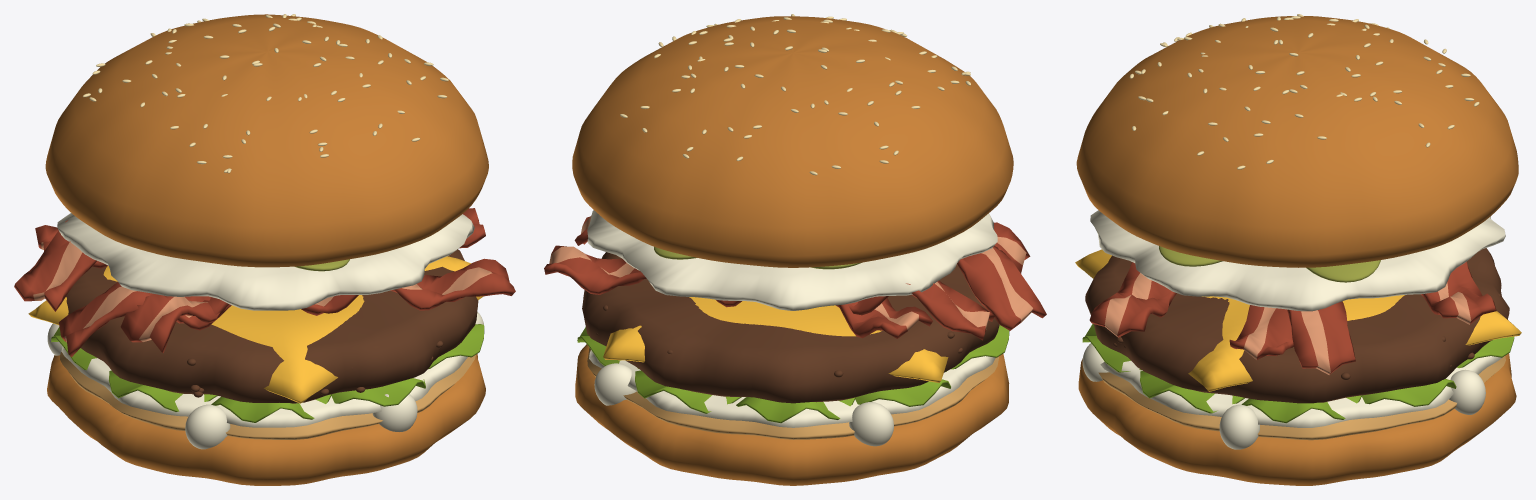
The model's file is encantos-burger.glb.
3 renders of one model, left to right at view 1: azimuth 30°, elevation 25°; view 2: azimuth 150°, elevation 25°; view 3: azimuth 270°, elevation 25°, orthographic.
Parts seen in each view (by area): view 1: Coroa do pão brioche, Carne artesanal, Base do pão, Ovo estrelado, Queijo sobre carne, Tira de bacon crocante, Camada de maionese, Miolo da base, Tira de bacon crocante.003, Tira de bacon crocante.001, Maionese escorrendo, Folha de alface.007 (+5 smaller); view 2: Coroa do pão brioche, Carne artesanal, Base do pão, Ovo estrelado, Tira de bacon crocante.003, Queijo sobre carne, Camada de maionese, Miolo da base, Tira de bacon crocante, Tira de bacon crocante.002, Maionese escorrendo.004, Folha de alface.003 (+5 smaller); view 3: Coroa do pão brioche, Carne artesanal, Base do pão, Ovo estrelado, Queijo sobre carne, Camada de maionese, Miolo da base, Tira de bacon crocante.001, Tira de bacon crocante, Tira de bacon crocante.002, Tira de bacon crocante.003, Maionese escorrendo.002 (+9 smaller).
Part boxes in pixels (x1,y1,x2,y2): Coroa do pão brioche: (45, 14, 488, 267); Carne artesanal: (66, 249, 478, 403); Base do pão: (47, 354, 485, 485); Ovo estrelado: (57, 213, 474, 310); Queijo sobre carne: (28, 256, 483, 403); Tira de bacon crocante: (59, 258, 515, 357); Camada de maionese: (61, 346, 467, 427); Miolo da base: (60, 352, 475, 439); Tira de bacon crocante.003: (14, 220, 96, 311); Tira de bacon crocante.001: (120, 294, 231, 352); Maionese escorrendo: (185, 404, 230, 449); Folha de alface.007: (331, 378, 425, 406); Coroa do pão brioche: (572, 16, 1013, 267); Carne artesanal: (582, 252, 999, 403); Base do pão: (575, 344, 1009, 485); Ovo estrelado: (587, 210, 997, 310); Tira de bacon crocante.003: (544, 245, 994, 340); Queijo sobre carne: (603, 297, 948, 382); Camada de maionese: (589, 350, 995, 427); Miolo da base: (587, 347, 998, 439); Tira de bacon crocante: (956, 246, 1046, 330); Tira de bacon crocante.002: (838, 298, 932, 338); Maionese escorrendo.004: (849, 402, 893, 446); Folha de alface.003: (736, 397, 855, 423); Coroa do pão brioche: (1076, 16, 1518, 267); Carne artesanal: (1085, 248, 1509, 403); Base do pão: (1078, 353, 1516, 485); Ovo estrelado: (1090, 210, 1505, 311); Queijo sobre carne: (1075, 249, 1521, 391); Camada de maionese: (1100, 356, 1502, 427); Miolo da base: (1098, 356, 1505, 440); Tira de bacon crocante.001: (1287, 301, 1355, 374); Tira de bacon crocante: (1089, 262, 1176, 337); Tira de bacon crocante.002: (1229, 305, 1293, 360); Tira de bacon crocante.003: (1421, 262, 1496, 324); Maionese escorrendo.002: (1219, 404, 1259, 449).
Size of the model in its own units: 2.57 by 2.05 by 2.31.
